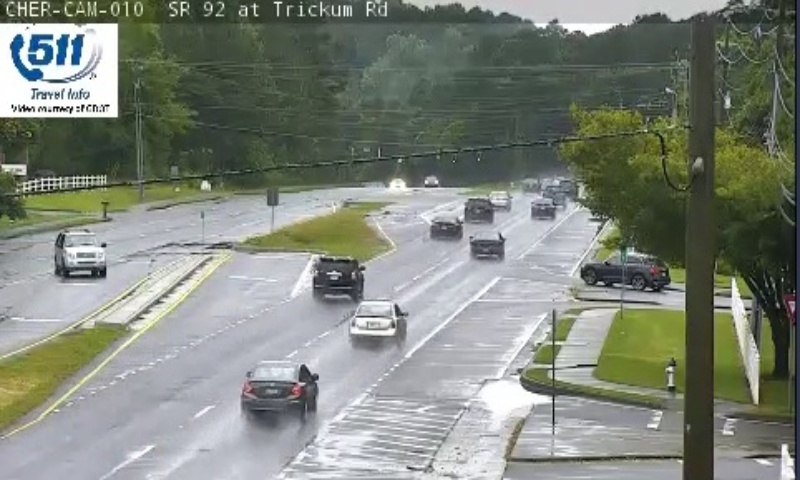car: (241, 361, 317, 414), (350, 299, 404, 342), (311, 255, 364, 296), (469, 229, 502, 256), (429, 214, 463, 238), (463, 196, 492, 220), (486, 189, 509, 209), (531, 198, 556, 216)
